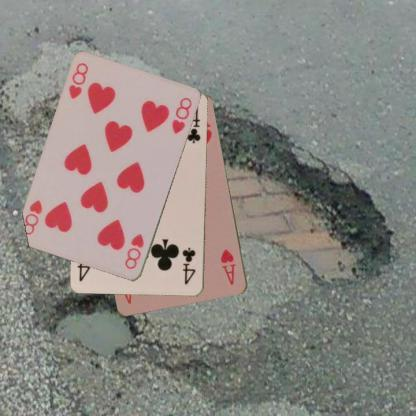4c: (180, 245, 197, 286)
8h: (122, 231, 146, 271), (66, 60, 89, 101)
Ah: (218, 246, 237, 287)
